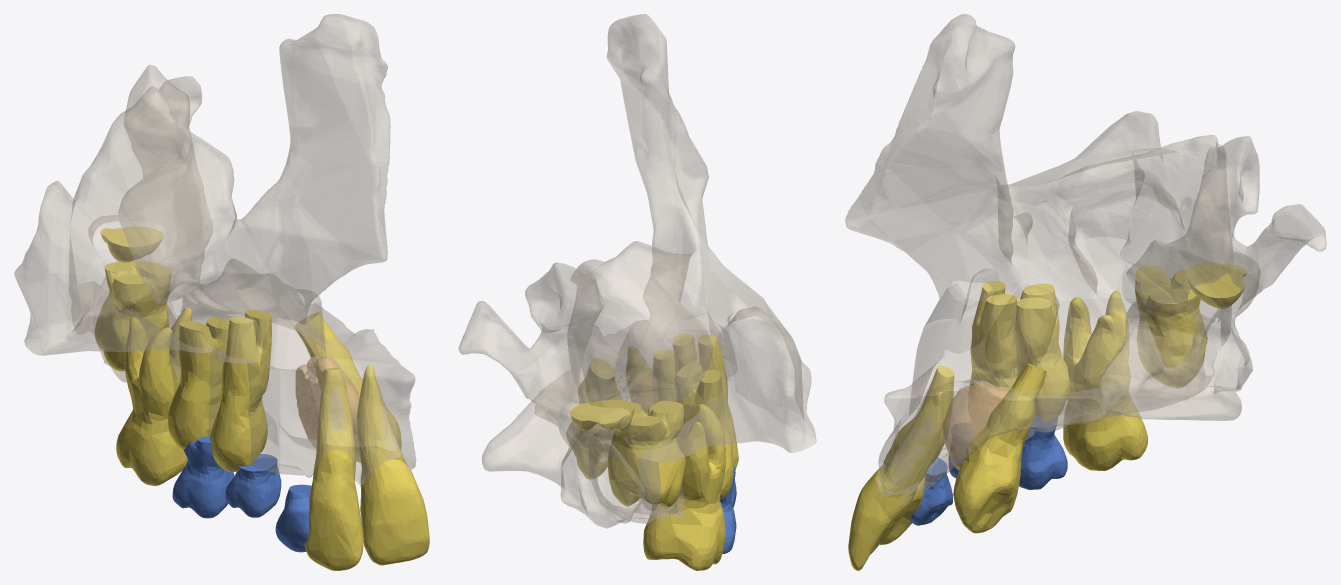
The model's file is removal-during.glb.
3 views of the same model, side by side, from view 1: azimuth 30°, elevation 25°; view 2: azimuth 150°, elevation 25°; view 3: azimuth 270°, elevation 25° (orthographic). The views are drawn at different scales.
Visible parts, largest first — view 1: bone, teeth, baby-teeth, canine, removed bone, baby-canine; view 2: bone, teeth, canine, baby-teeth, removed bone; view 3: bone, teeth, canine, removed bone, baby-teeth, baby-canine.
Boxes of the visible parts, x1=… form: bone: x1=14, y1=14, x2=416, y2=484; teeth: x1=94, y1=226, x2=429, y2=570; baby-teeth: x1=172, y1=435, x2=281, y2=518; canine: x1=295, y1=312, x2=401, y2=462; removed bone: x1=295, y1=356, x2=359, y2=447; baby-canine: x1=275, y1=484, x2=311, y2=552; bone: x1=458, y1=14, x2=816, y2=528; teeth: x1=570, y1=333, x2=738, y2=570; canine: x1=566, y1=359, x2=622, y2=479; baby-teeth: x1=720, y1=466, x2=736, y2=553; removed bone: x1=617, y1=368, x2=657, y2=413; bone: x1=845, y1=14, x2=1326, y2=503; teeth: x1=848, y1=262, x2=1247, y2=570; canine: x1=953, y1=363, x2=1046, y2=533; removed bone: x1=942, y1=381, x2=1008, y2=469; baby-teeth: x1=948, y1=415, x2=1067, y2=489; baby-canine: x1=910, y1=457, x2=952, y2=525.
Size of the model in its own units: 0.0491 by 0.0795 by 0.0637.
